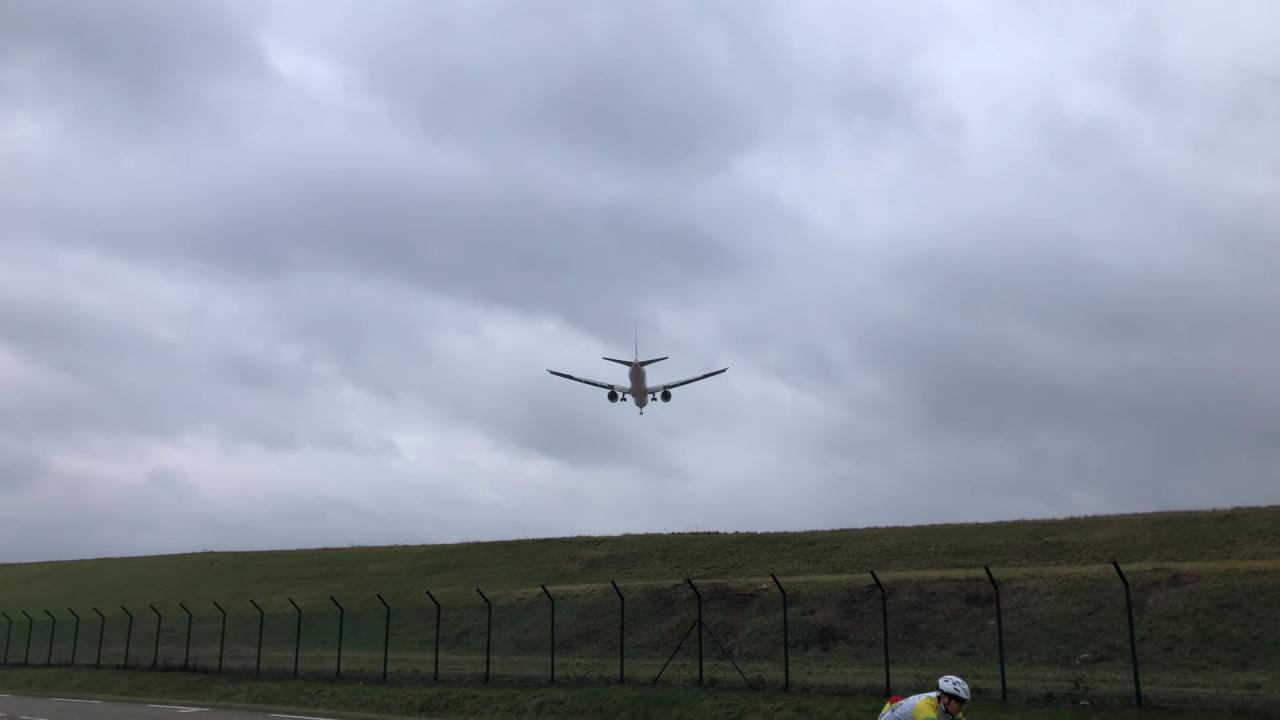Airplane: (541, 323, 735, 423)
